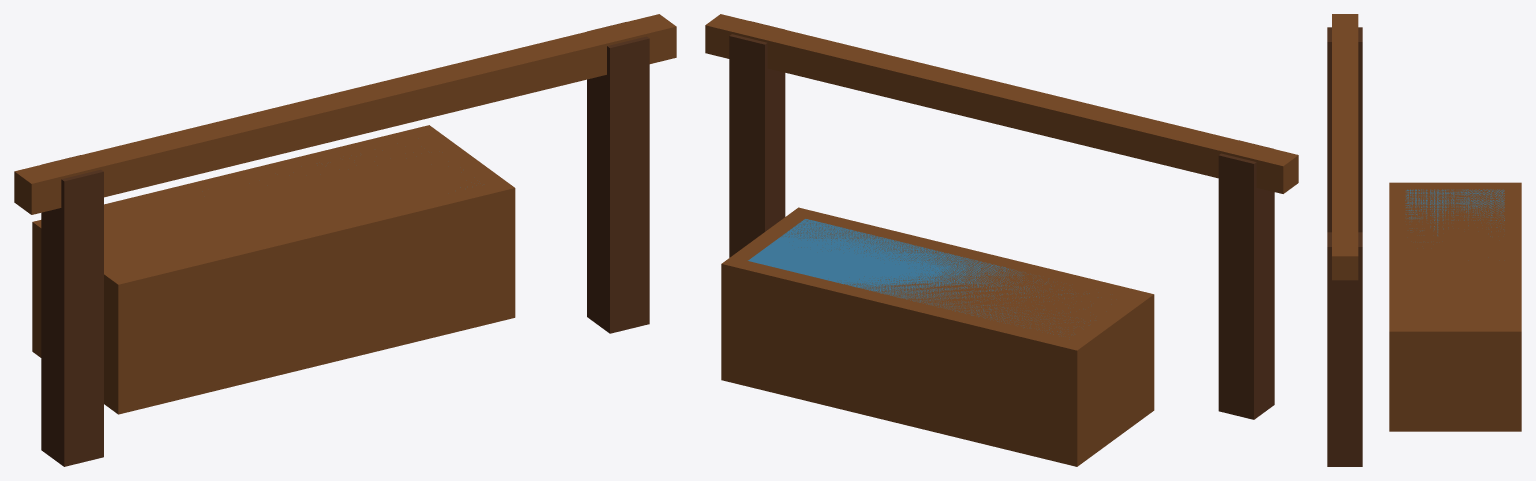
Rendered from Prop_HitchingPost.fbx.
The picture shows the model from 3 angles, left to right: view 1: azimuth 30°, elevation 25°; view 2: azimuth 150°, elevation 25°; view 3: azimuth 270°, elevation 25°; orthographic projection. The views are drawn at different scales.
Visible parts, largest first — view 1: Prop_HitchingPost; view 2: Prop_HitchingPost; view 3: Prop_HitchingPost.
Part boxes in pixels (x1,y1,x2,y2): Prop_HitchingPost: (14, 14, 676, 466); Prop_HitchingPost: (705, 14, 1298, 466); Prop_HitchingPost: (1327, 14, 1521, 466).
Size of the model in its own units: 2.6 by 1.11 by 0.88.
